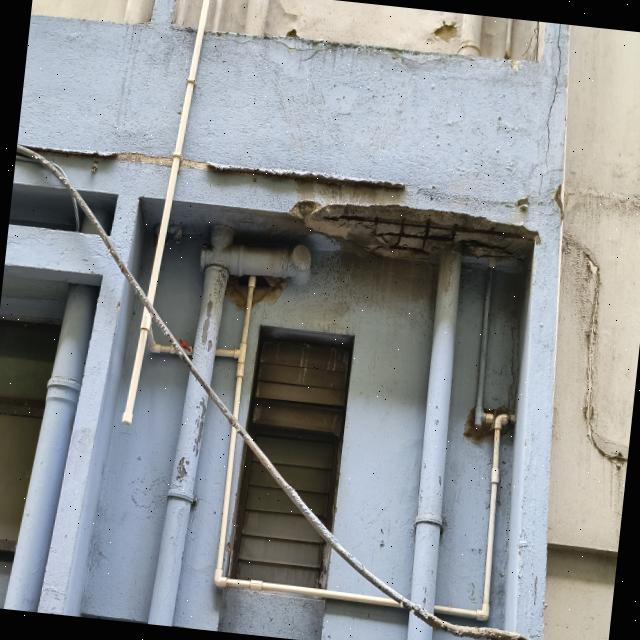crack: (536, 23, 564, 196)
peeling: (226, 273, 286, 308), (503, 312, 519, 408), (423, 16, 464, 47), (191, 399, 207, 458), (201, 299, 212, 352), (176, 454, 191, 489)
spalling: (313, 202, 537, 269)
stain_mould: (207, 30, 456, 69)
